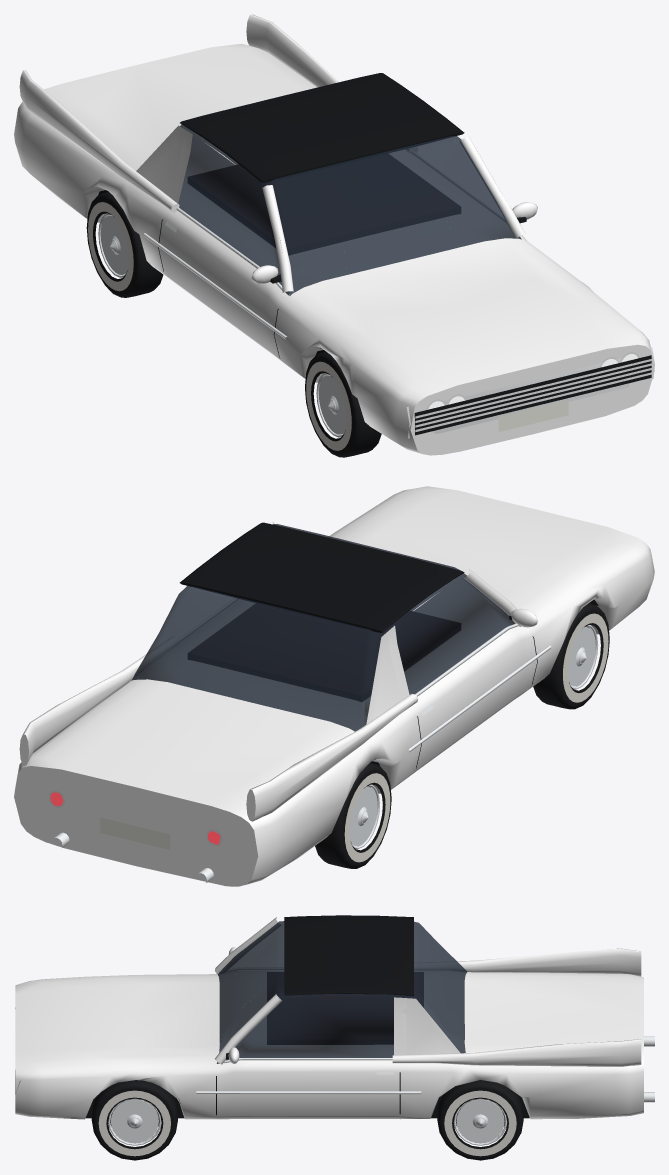
Rendered from harlan_bellwether.lod.glb.
The picture shows the model from 3 angles, top to bottom: view 1: azimuth 30°, elevation 25°; view 2: azimuth 150°, elevation 25°; view 3: azimuth 270°, elevation 25°; orthographic projection. The views are drawn at different scales.
Parts seen in each view (by area): view 1: body_paint, body_trim, door_glass (×2), body_roof, body_glass, door_paint, body_chrome, tire (×2), rim (×2), whitewall (×2); view 2: body_paint, body_glass, body_roof, body_trim, door_paint, door_glass, tire (×2), rim (×2), whitewall (×2), body_chrome; view 3: body_paint, door_paint, door_glass (×2), body_roof, body_glass, body_trim, tire (×2), rim (×2), whitewall (×2), body_chrome.
Part boxes in pixels (bbox=[...]): body_paint: bbox=[14, 14, 654, 455]; body_trim: bbox=[98, 154, 651, 435]; door_glass (×2): bbox=[178, 133, 521, 295]; body_roof: bbox=[180, 73, 464, 182]; body_glass: bbox=[180, 124, 494, 295]; door_paint: bbox=[160, 133, 289, 362]; body_chrome: bbox=[143, 151, 654, 438]; tire (×2): bbox=[86, 191, 381, 457]; rim (×2): bbox=[98, 213, 346, 437]; whitewall (×2): bbox=[88, 202, 351, 450]; body_paint: bbox=[14, 486, 654, 886]; body_glass: bbox=[131, 524, 459, 731]; body_roof: bbox=[179, 522, 464, 632]; body_trim: bbox=[100, 599, 598, 849]; door_paint: bbox=[393, 570, 534, 774]; door_glass: bbox=[390, 573, 515, 694]; tire (×2): bbox=[315, 603, 609, 868]; rim (×2): bbox=[349, 625, 598, 849]; whitewall (×2): bbox=[344, 613, 608, 862]; body_chrome: bbox=[49, 598, 551, 882]; body_paint: bbox=[15, 917, 643, 1119]; door_paint: bbox=[217, 997, 397, 1119]; door_glass (×2): bbox=[216, 922, 397, 1063]; body_roof: bbox=[284, 915, 413, 995]; body_glass: bbox=[217, 921, 467, 1053]; body_trim: bbox=[85, 972, 529, 1118]; tire (×2): bbox=[91, 1080, 523, 1160]; rim (×2): bbox=[108, 1098, 506, 1145]; whitewall (×2): bbox=[98, 1090, 516, 1156]; body_chrome: bbox=[15, 967, 654, 1102].
Size of the model in its own units: 2.13 by 1.43 by 5.2.
